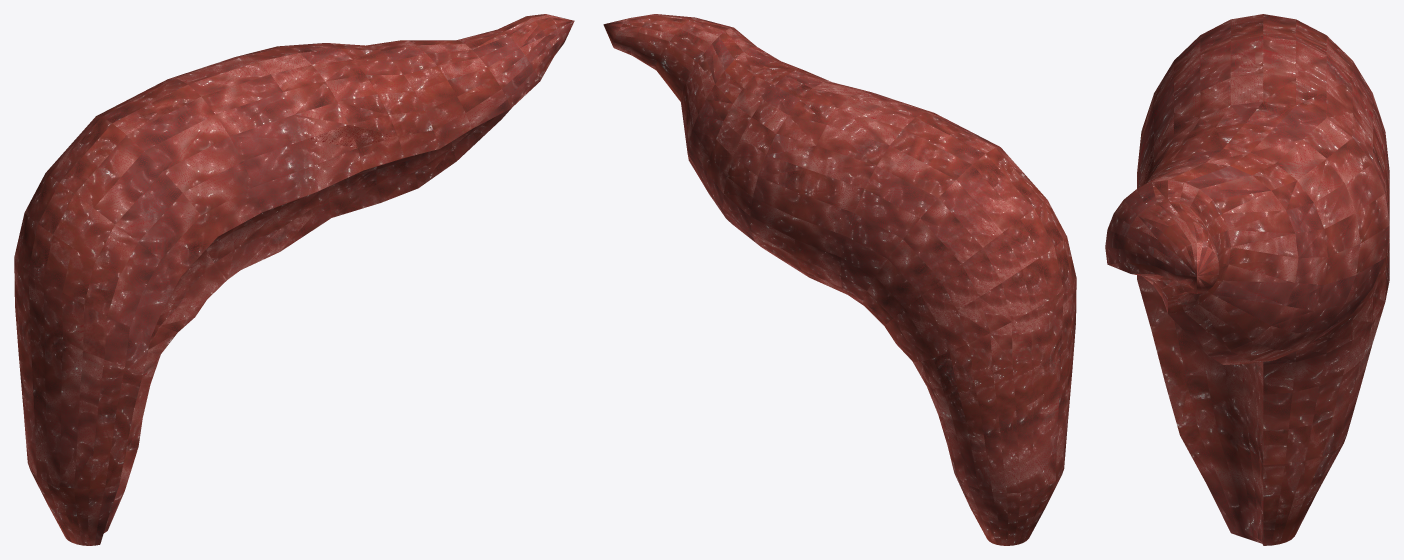
Rendered from liver.dae.
3 renders of one model, left to right at view 1: azimuth 30°, elevation 25°; view 2: azimuth 150°, elevation 25°; view 3: azimuth 270°, elevation 25°, orthographic. The views are drawn at different scales.
Visible parts, largest first — view 1: group_1 (×2), group_0; view 2: group_0 (×2), group_1; view 3: group_0 (×2), group_1.
Part boxes in pixels (x1=…): group_1 (×2): x1=28, y1=15, x2=574, y2=545; group_0: x1=14, y1=14, x2=567, y2=539; group_0 (×2): x1=603, y1=15, x2=1063, y2=545; group_1: x1=607, y1=14, x2=1076, y2=539; group_0 (×2): x1=1168, y1=14, x2=1389, y2=545; group_1: x1=1105, y1=14, x2=1263, y2=544.
Size of the model in its own units: 50.34 by 18.08 by 41.25.
